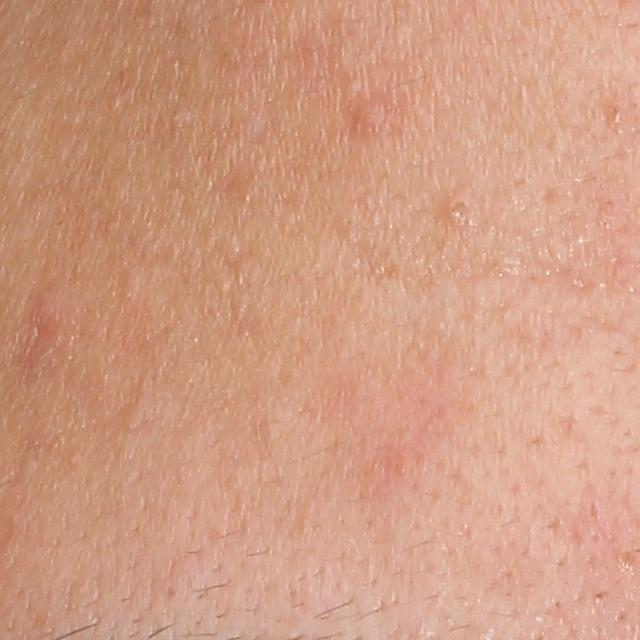comedo: (348, 101, 387, 136), (440, 196, 471, 225), (115, 401, 148, 427), (257, 417, 286, 445)
